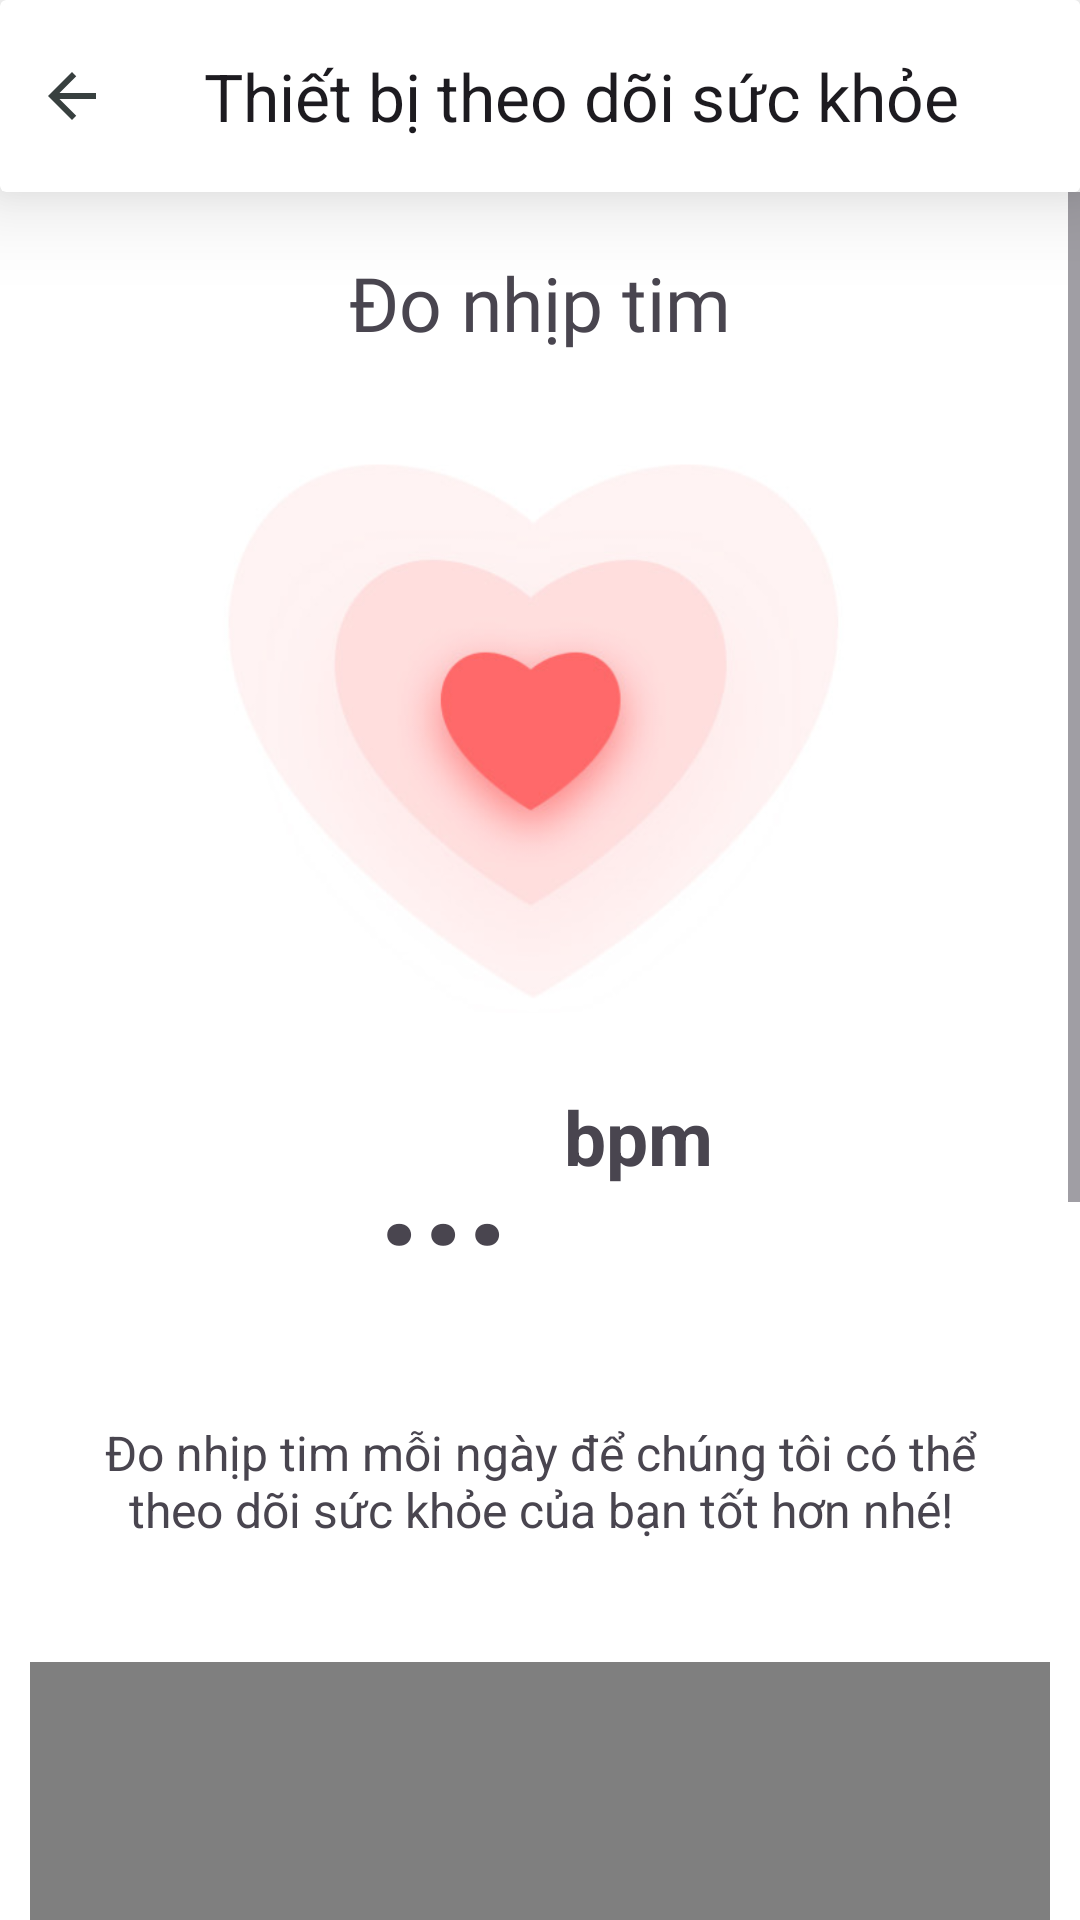

Icons on this 1080w x 1920h Android screen, each with its box as (x1, y1, x2, y2):
arrow back: (48, 72, 96, 120)
